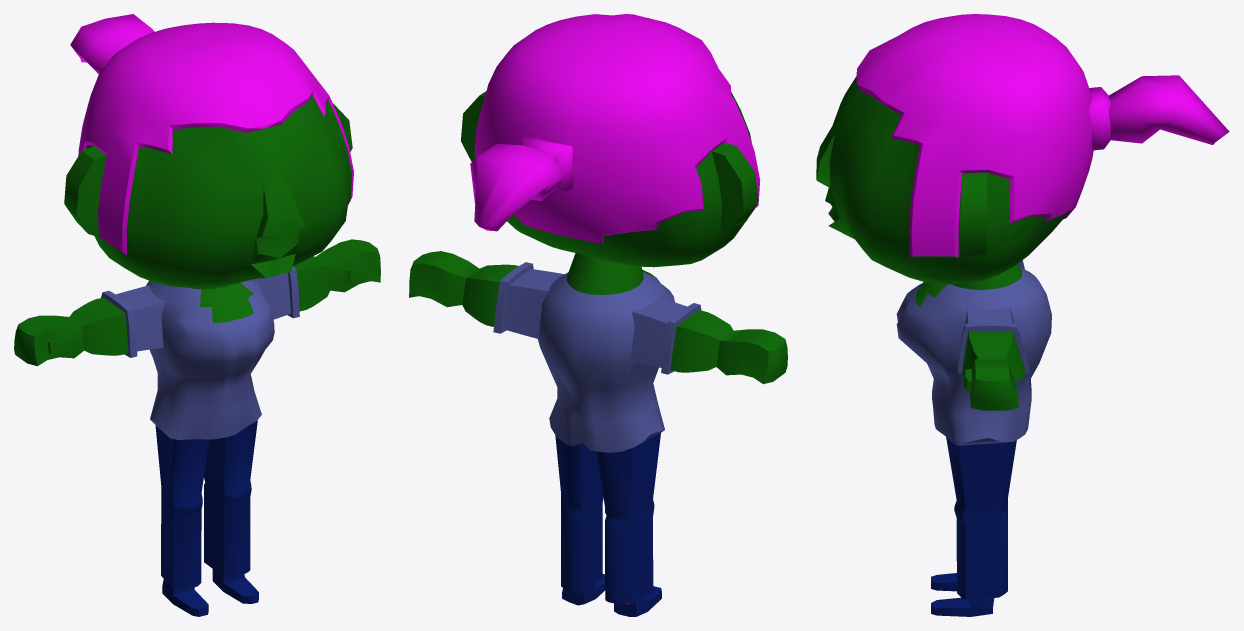
File: person02.FBX
The picture shows the model from 3 angles, left to right: view 1: azimuth 30°, elevation 25°; view 2: azimuth 150°, elevation 25°; view 3: azimuth 270°, elevation 25°; orthographic projection. The views are drawn at different scales.
Parts seen in each view (by area): view 1: person02; view 2: person02; view 3: person02.
Boxes of the visible parts, x1,y1,x2,y2 form: person02: (14,14,380,616); person02: (409,14,787,616); person02: (816,14,1229,616).
Bounding box in the file's own units: 102 × 152 × 100.
